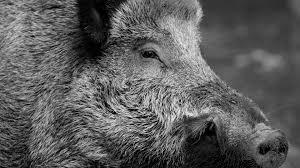wildboar: (0, 0, 293, 168)
